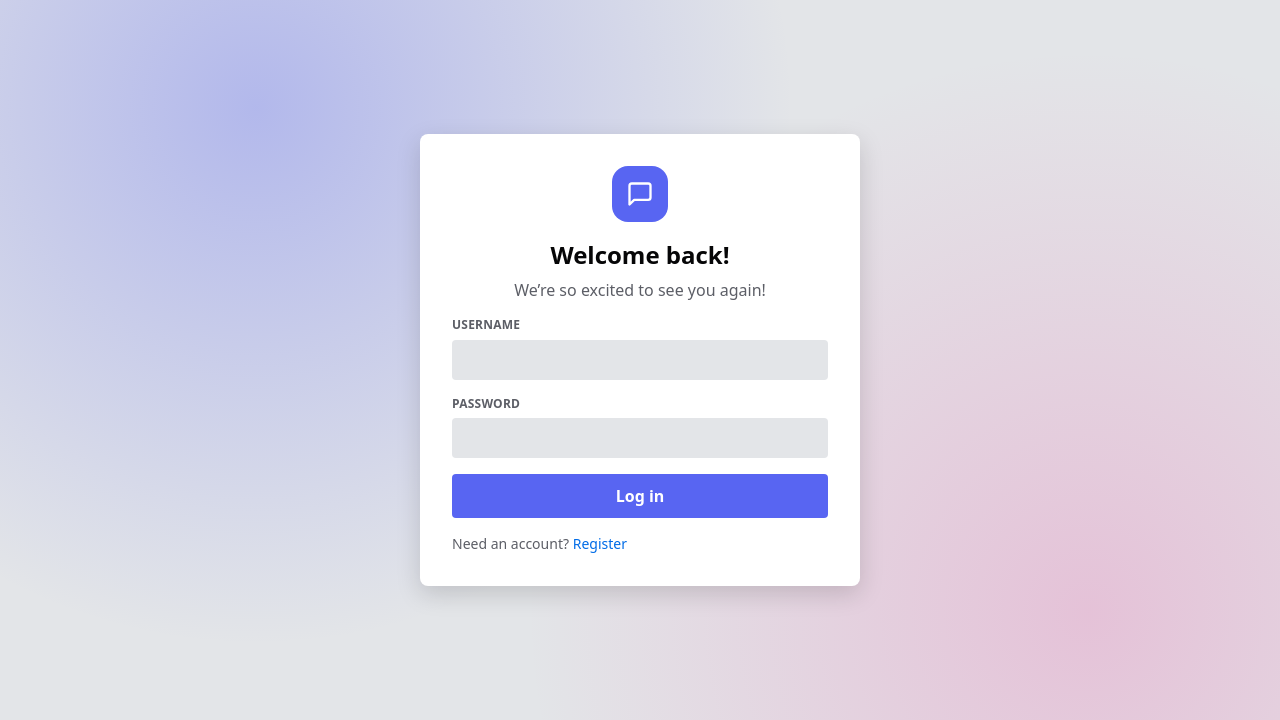
Test: registration uses the server settings from /api/meta › falls back to no cap and an optional invite code when /api/meta fails
Step 1. Click the button "Register" → (600, 544), box [573, 534, 627, 554]
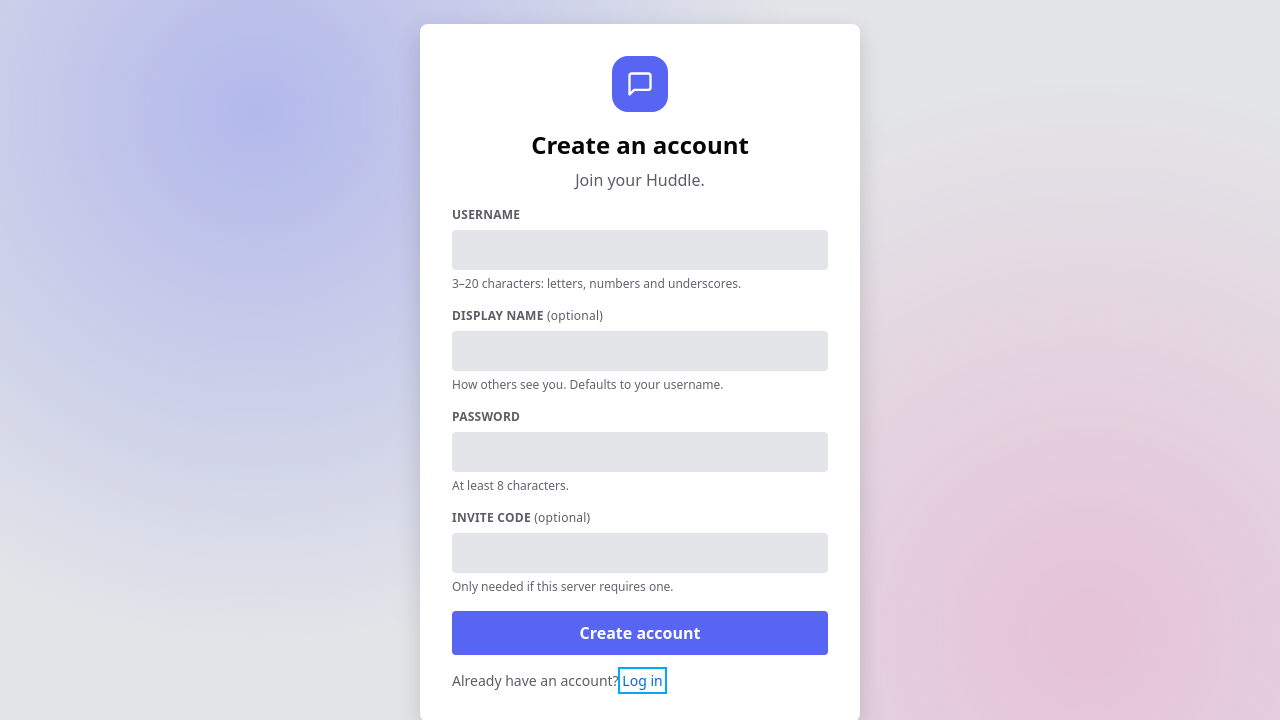
Expected: the text "Join your Huddle." is shown, [575, 169, 705, 191]
